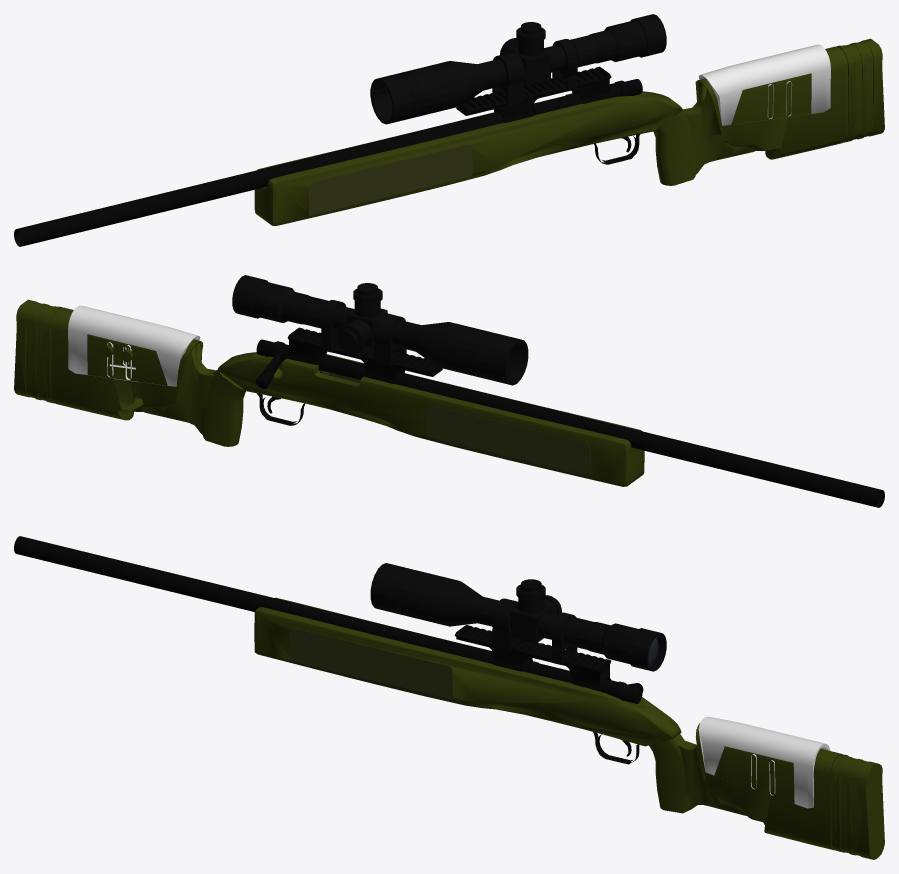
The picture shows the model from 3 angles, top to bottom: view 1: azimuth 30°, elevation 25°; view 2: azimuth 150°, elevation 25°; view 3: azimuth 330°, elevation 25°; orthographic projection.
Visible parts, largest first — view 1: m40a3, m40a3_x16scope, m40a3_cheekwell, m40a3_bolt; view 2: m40a3, m40a3_x16scope, m40a3_cheekwell, m40a3_bolt; view 3: m40a3, m40a3_x16scope, m40a3_cheekwell, m40a3_bolt.
Part boxes in pixels (x1,y1,x2,y2): m40a3: (14, 38, 884, 246); m40a3_x16scope: (370, 14, 666, 124); m40a3_cheekwell: (698, 44, 830, 125); m40a3_bolt: (532, 79, 642, 114); m40a3: (14, 299, 884, 507); m40a3_x16scope: (232, 275, 528, 385); m40a3_cheekwell: (68, 305, 200, 386); m40a3_bolt: (255, 339, 366, 388); m40a3: (14, 536, 884, 859); m40a3_x16scope: (370, 563, 666, 671); m40a3_cheekwell: (698, 716, 830, 808); m40a3_bolt: (528, 662, 643, 703).
Bounding box in the file's own units: 44.2 × 9.37 × 3.11.
